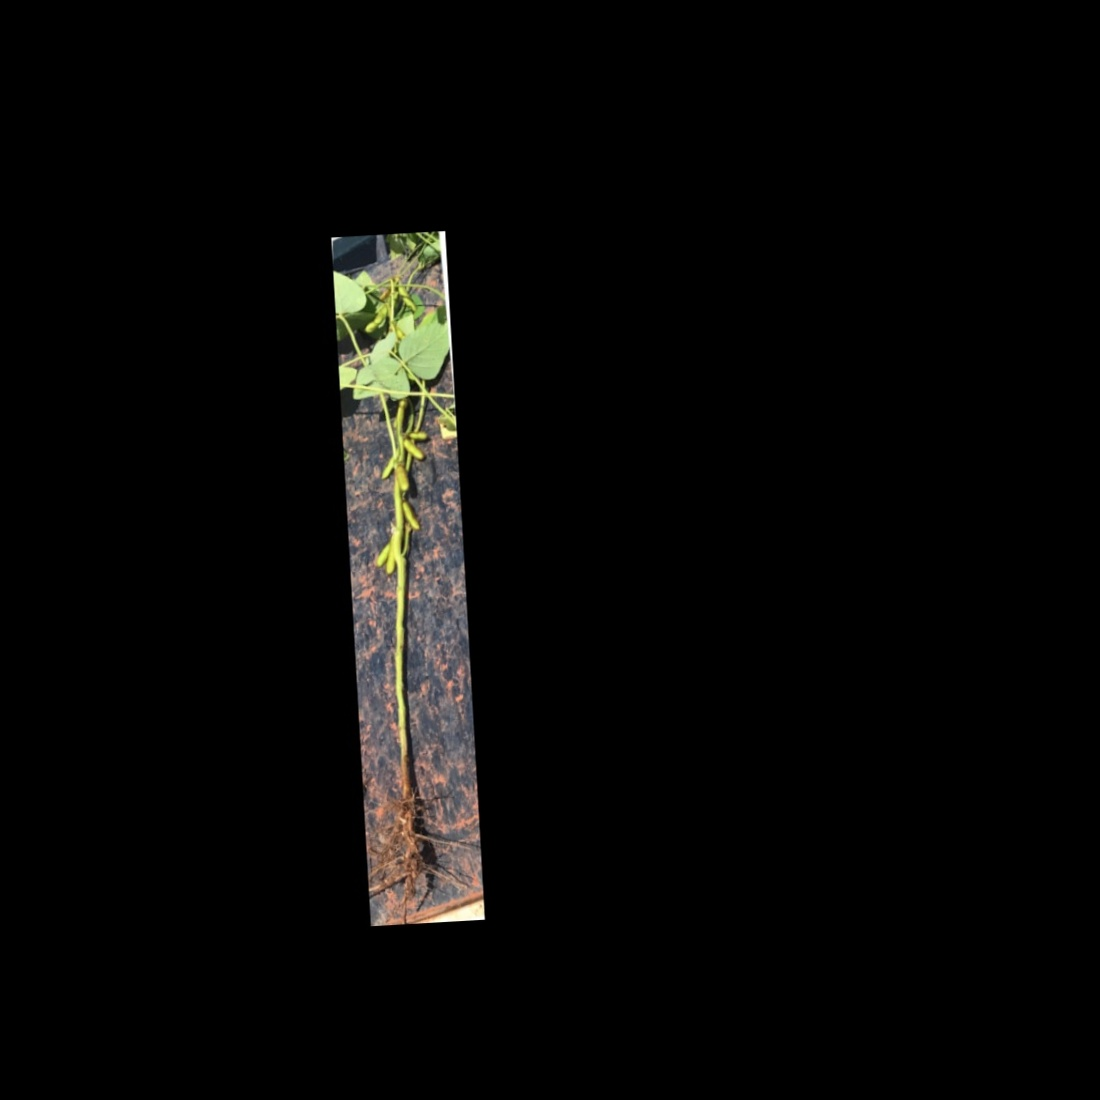pod: (374, 443, 404, 482), (361, 302, 395, 334), (401, 497, 429, 534), (380, 531, 399, 579), (399, 438, 427, 462), (393, 463, 411, 493), (403, 429, 431, 442)
soy: (336, 244, 479, 878)
